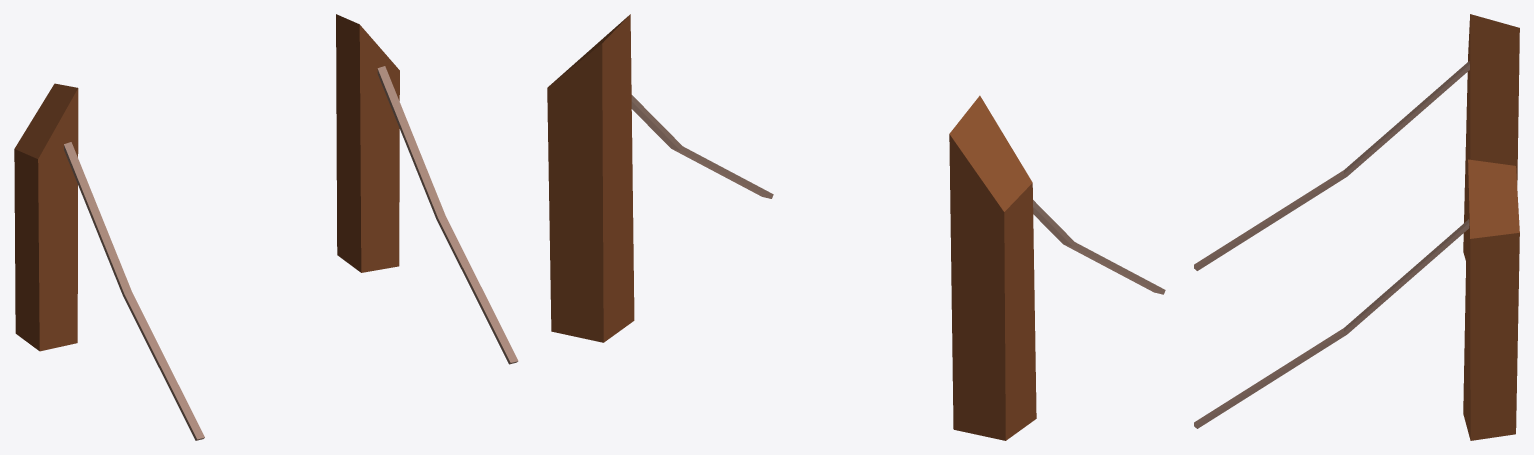
Rendered from bridge_start.glb.
3 views of the same model, side by side, from view 1: azimuth 30°, elevation 25°; view 2: azimuth 150°, elevation 25°; view 3: azimuth 270°, elevation 25° (orthographic). The views are drawn at different scales.
Visible parts, largest first — view 1: bridge_start; view 2: bridge_start; view 3: bridge_start.
Part boxes in pixels (bbox=[...]): bridge_start: bbox=[14, 14, 518, 440]; bridge_start: bbox=[547, 14, 1165, 440]; bridge_start: bbox=[1194, 14, 1519, 440].
Size of the model in its own units: 2.04 by 1.37 by 1.53.
